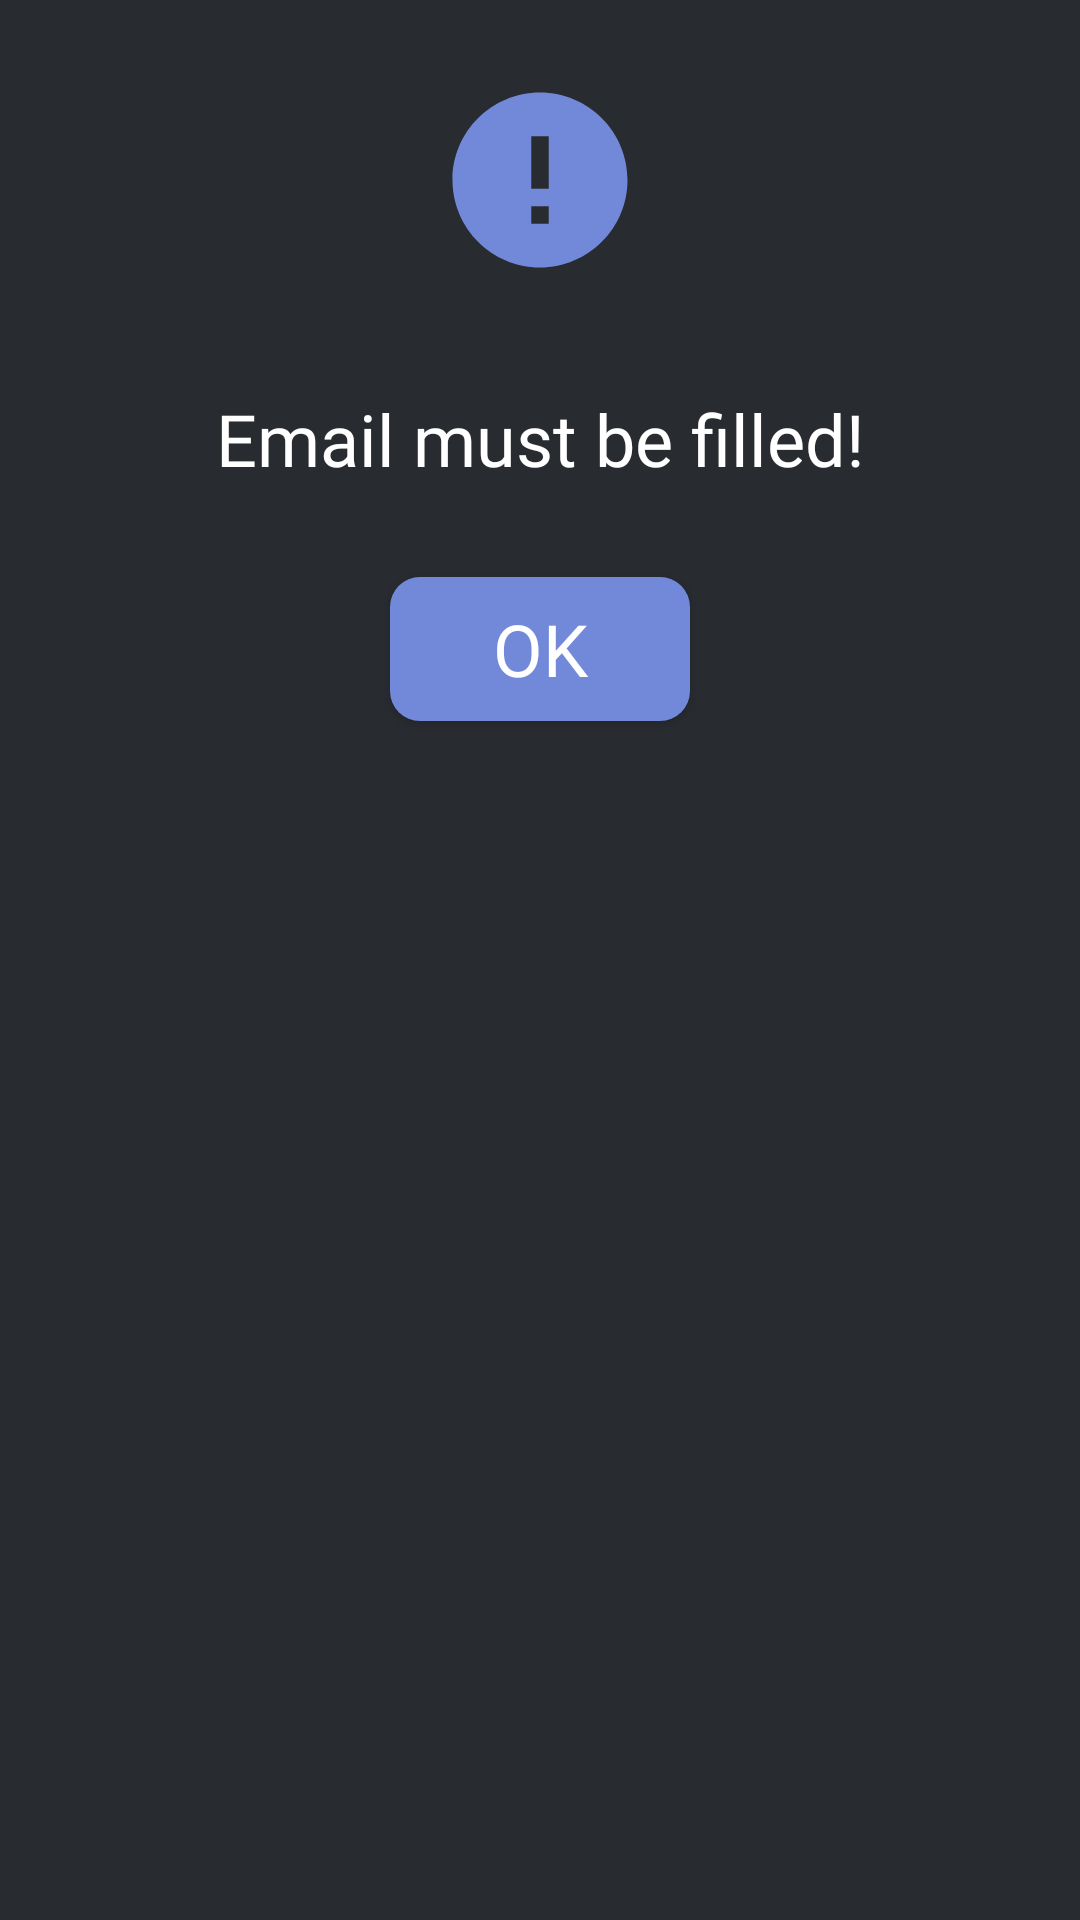

Icon bounding boxes for this 1080×1920 phone screenshot, format BBox(x1, y1, x2, y2):
error: BBox(452, 92, 628, 268)
